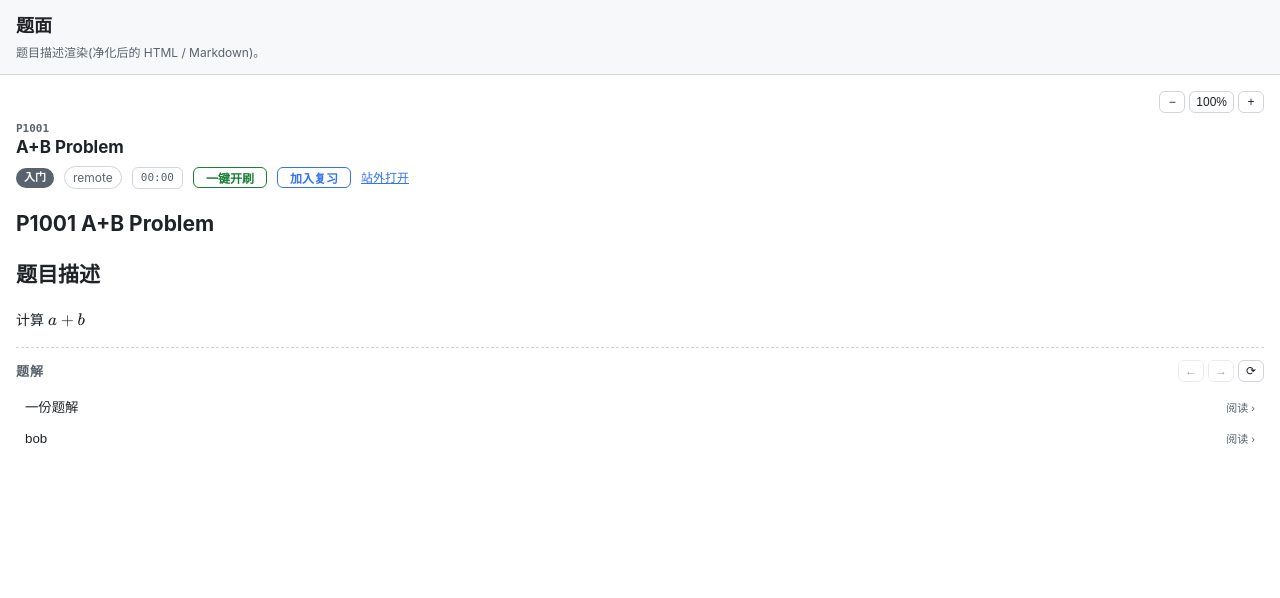
Scenario: problem-view solution reader (WP31) › opens article in-app and renders markdown pipeline with highlight and math
Click the button with class "solutions__open" showing "一份题解 阅读 ›".
click(52, 408)  # box [16,392,1264,421]
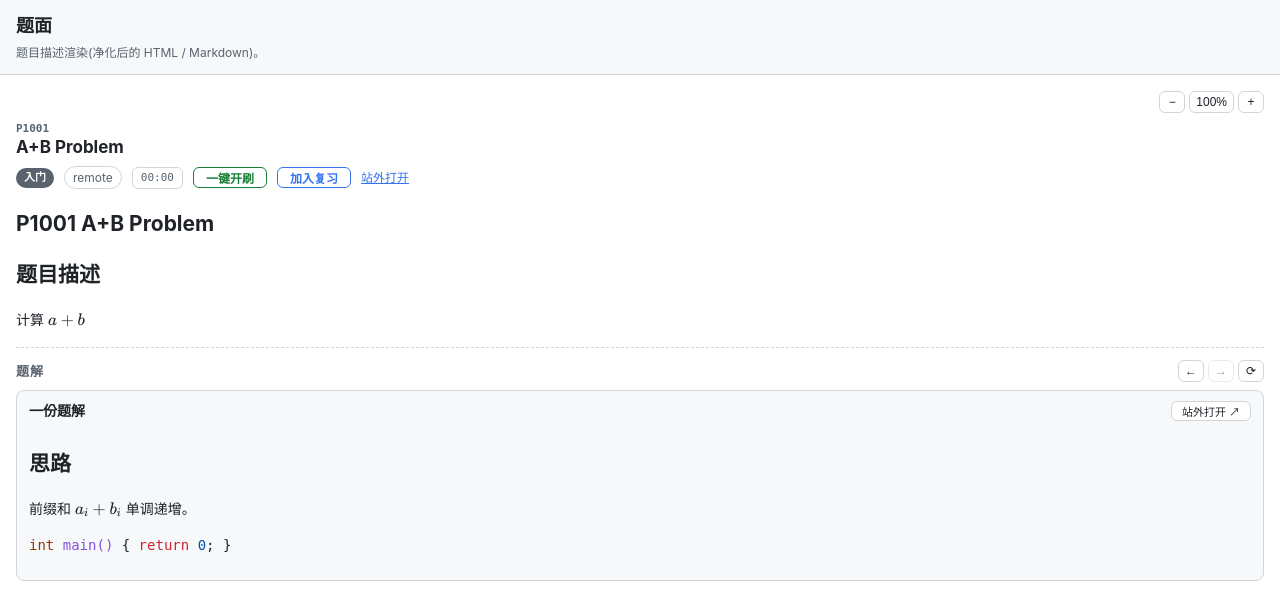
Expected: the element with class "reader" is shown, [16,390,1264,581]
Expected: no list items with class "solutions__item" are shown
Expected: the element with class "reader__body" is shown, [29,451,231,553]
